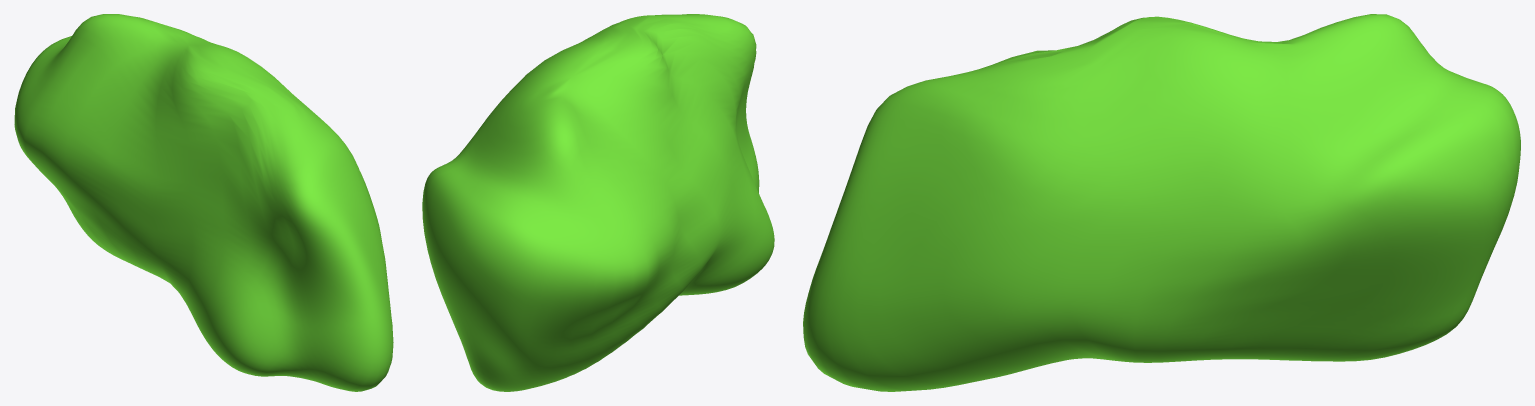
The model's file is bush.fbx.
The picture shows the model from 3 angles, left to right: view 1: azimuth 30°, elevation 25°; view 2: azimuth 150°, elevation 25°; view 3: azimuth 270°, elevation 25°; orthographic projection. The views are drawn at different scales.
Parts seen in each view (by area): view 1: Sphere; view 2: Sphere; view 3: Sphere.
Boxes of the visible parts, box(x1,y1,x2,y2) form: Sphere: box(14, 14, 393, 391); Sphere: box(422, 14, 774, 391); Sphere: box(803, 14, 1520, 391).
Bounding box in the file's own units: 320 × 356 × 684.
